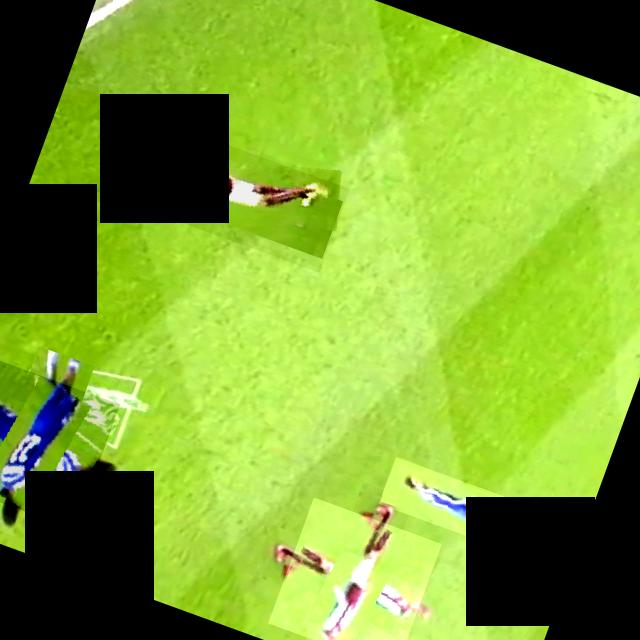soccer-player: (97, 107, 350, 272), (268, 497, 442, 640), (0, 358, 120, 529), (379, 456, 562, 564)
